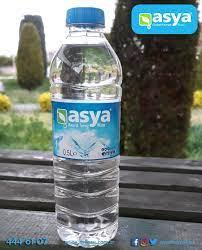bottle: (47, 4, 126, 249)
